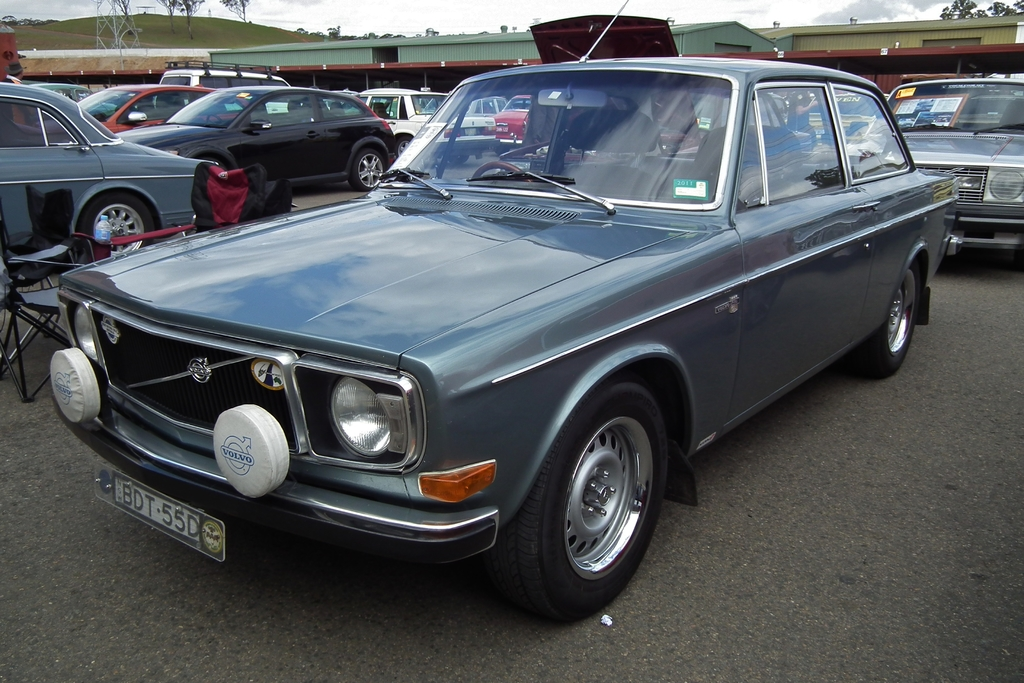Car: (0, 12, 1023, 622)
